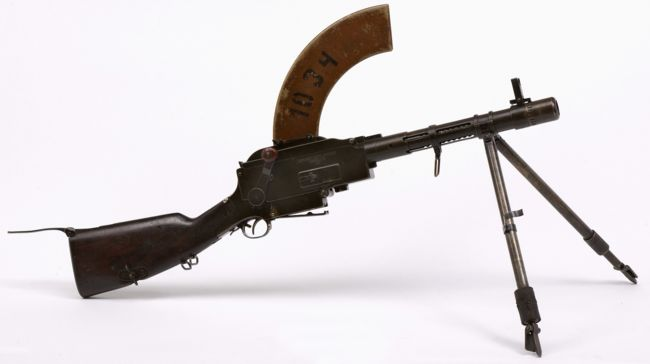rifle: (18, 7, 602, 345)
